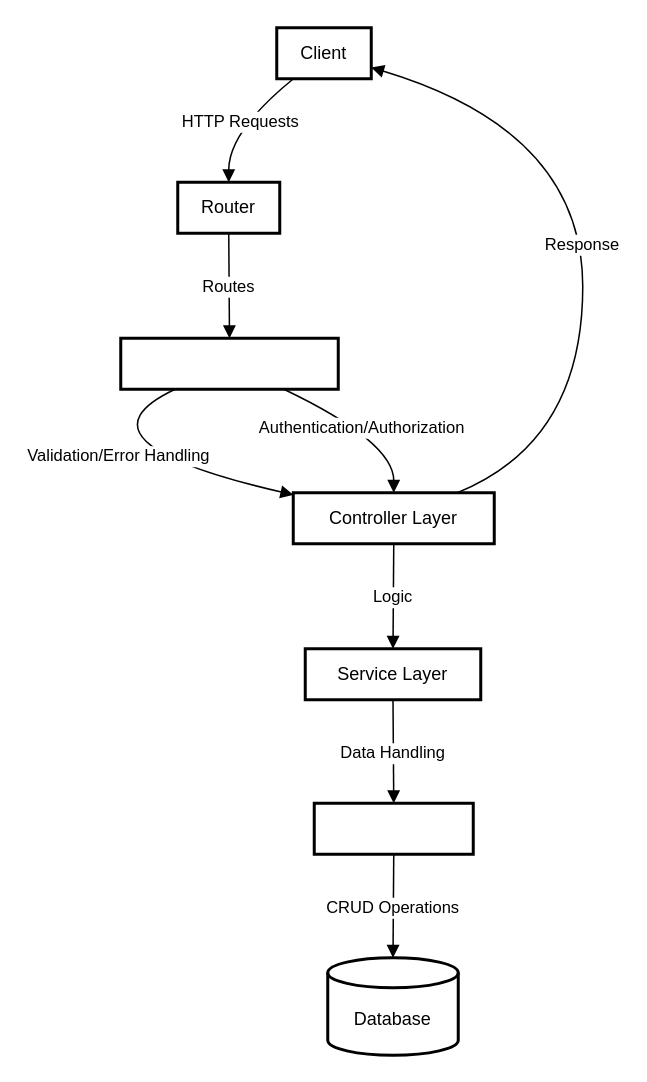
Some shapes in this 647 by 1082 pixel diagram are drawn without their labels. Here are the shapes that lost their labels. From the top down, the centre of each, then its label:
At (x=228, y=363): "Middleware Layer".
At (x=393, y=828): "Model Layer".
